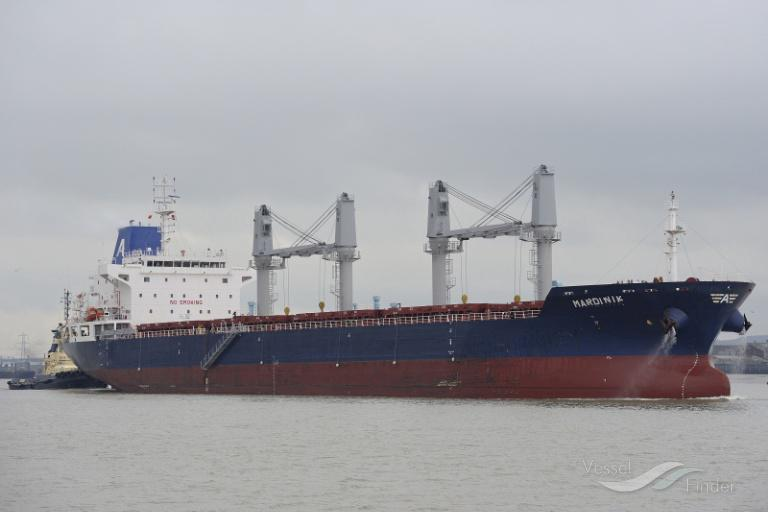OCR: (562, 296, 623, 312)
